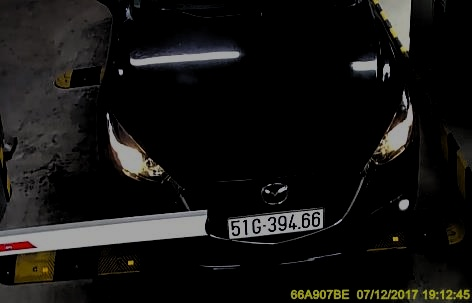plate: (220, 205, 326, 238)
